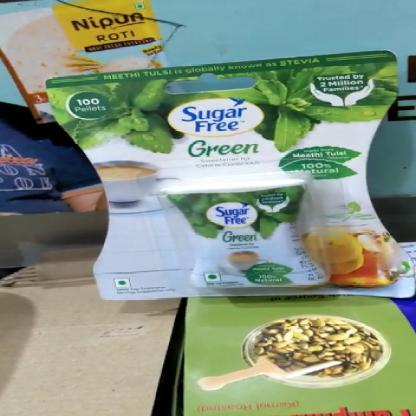SUGAR FREE GRN 300 PELLET: (44, 48, 412, 296)
